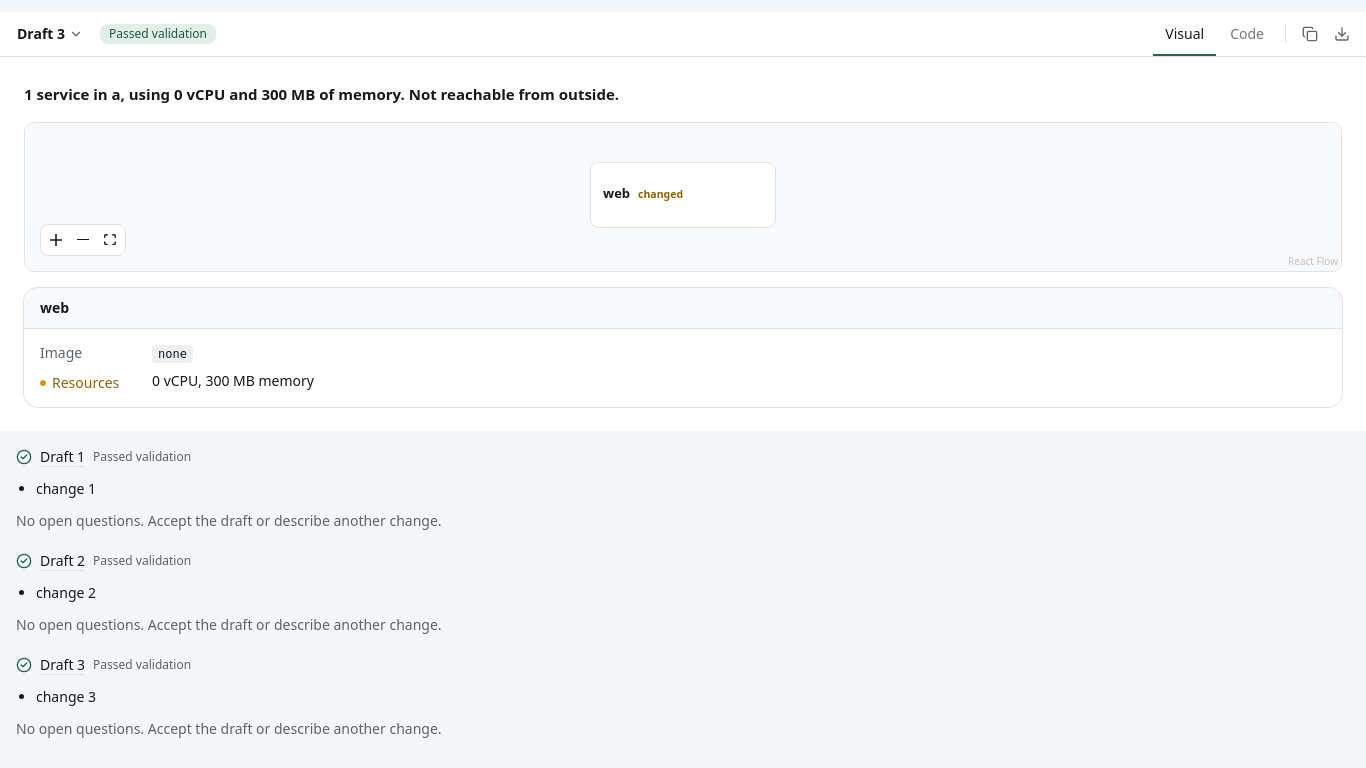
Test: viewing an older draft › restores a draft straight away when there are no hand edits
Click the button with aria-label "View draft 2 in the SLA pane": (63, 560) [40,550,85,570]
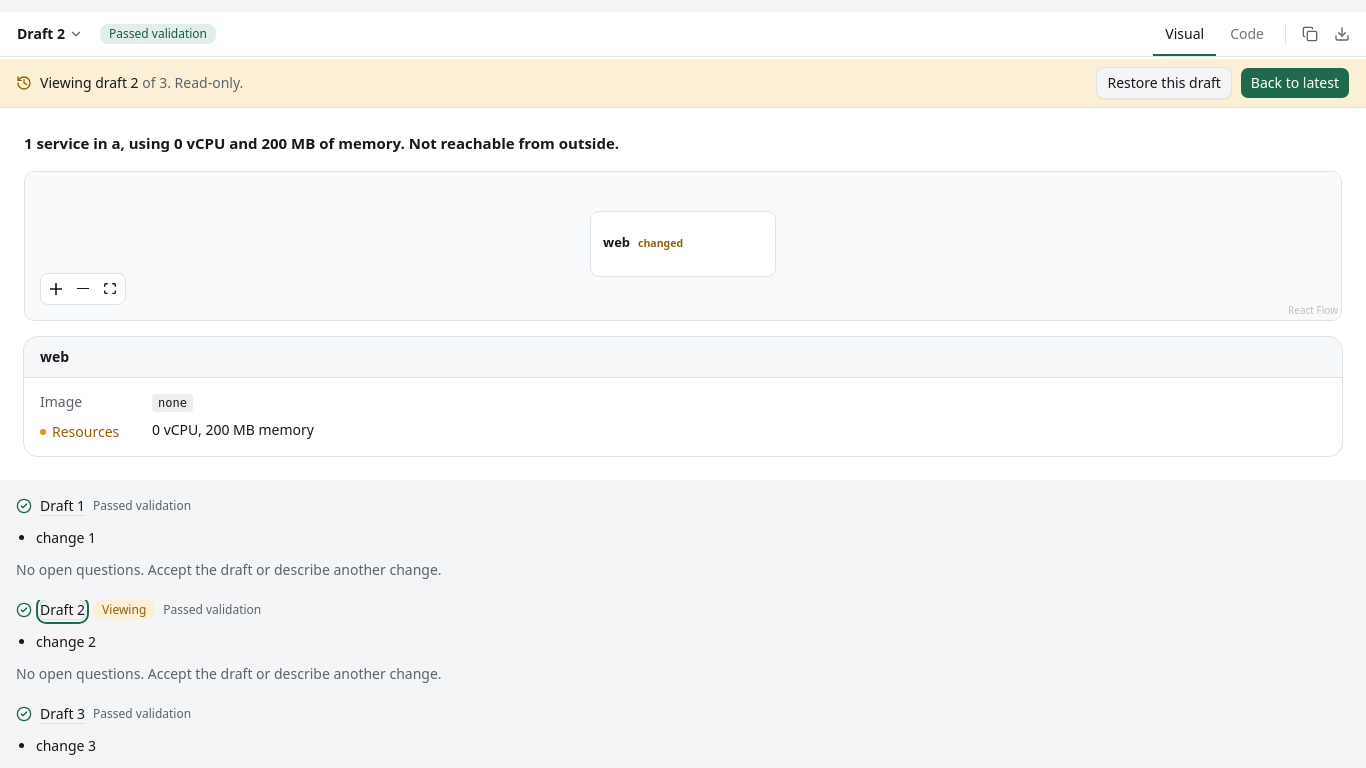
Click the button "Restore this draft": (1164, 83) [1096,67,1232,99]
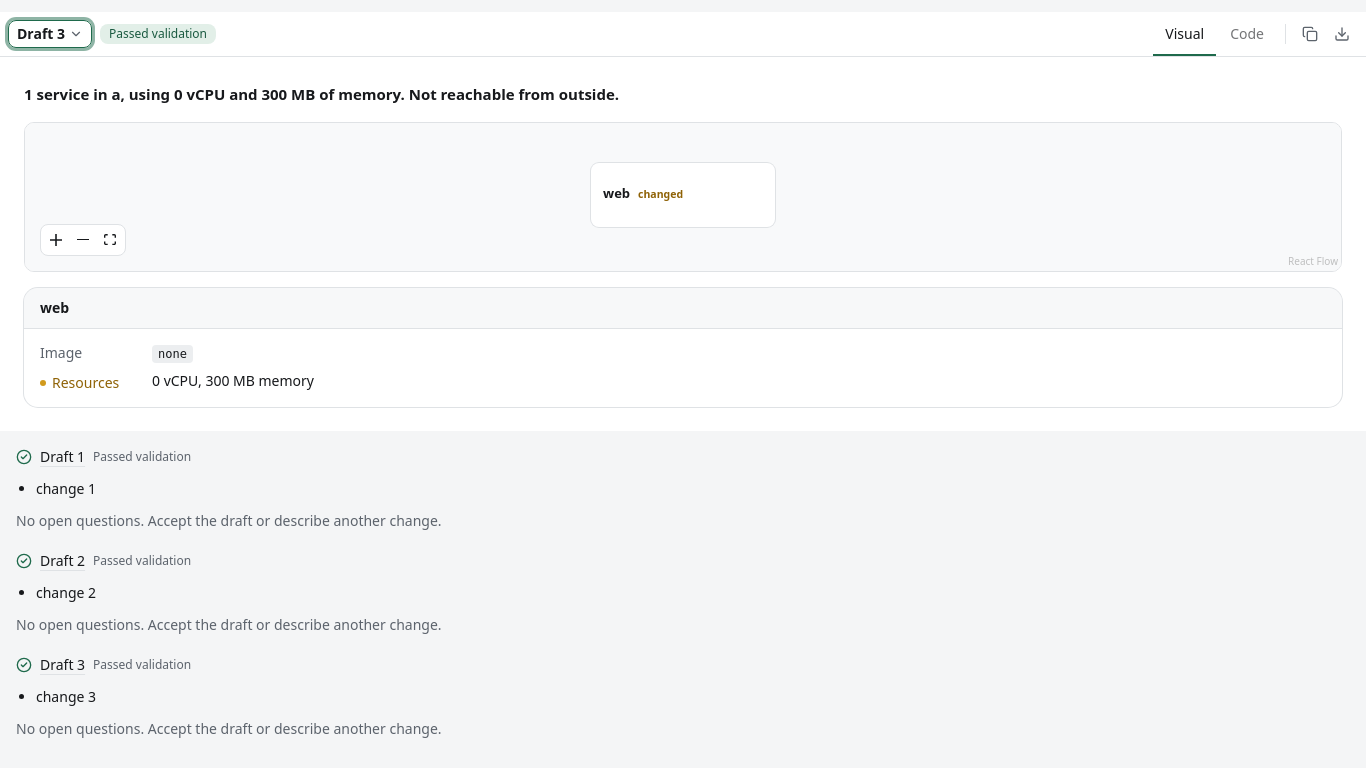
Check: the text "Viewing draft 2" is gone
